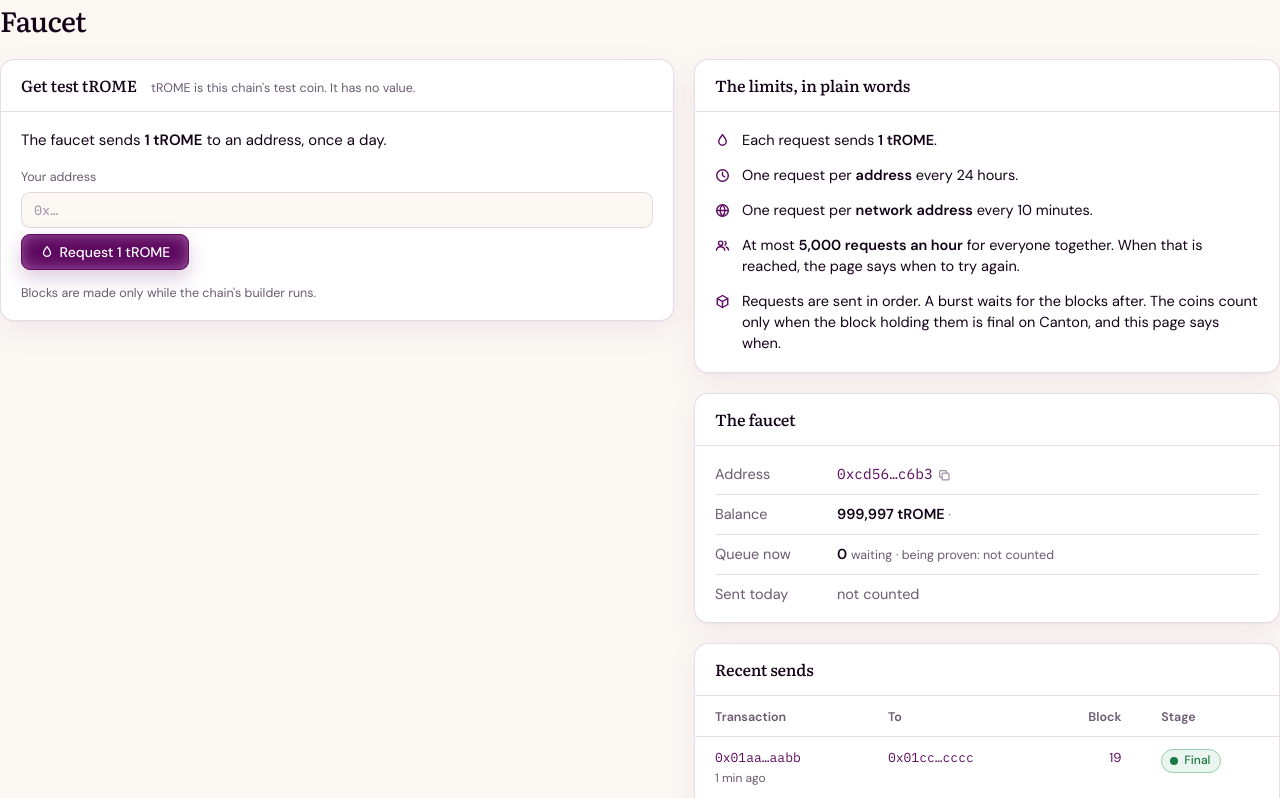
Test: recent sends › shows the request being followed, not final, above the final ones, and never as final
The image size is (1280, 798).
Type "0x5a04de5c5ebd085f5e3b3ec791ab5cdc8e2b56f0" into the field labelled "Your address" at [337, 210], box [21,192,653,228]
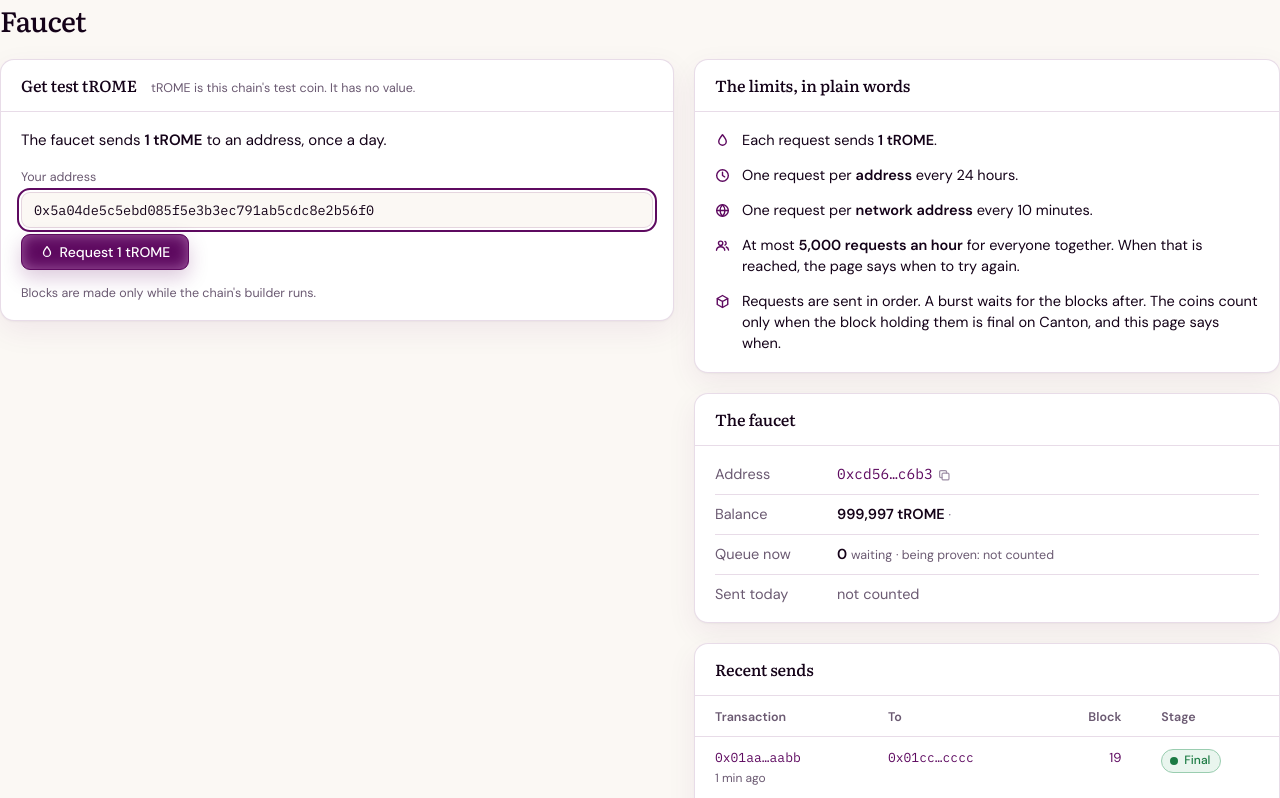
Click the button "Request 1 tROME" at [105, 252], box [21,234,189,270]
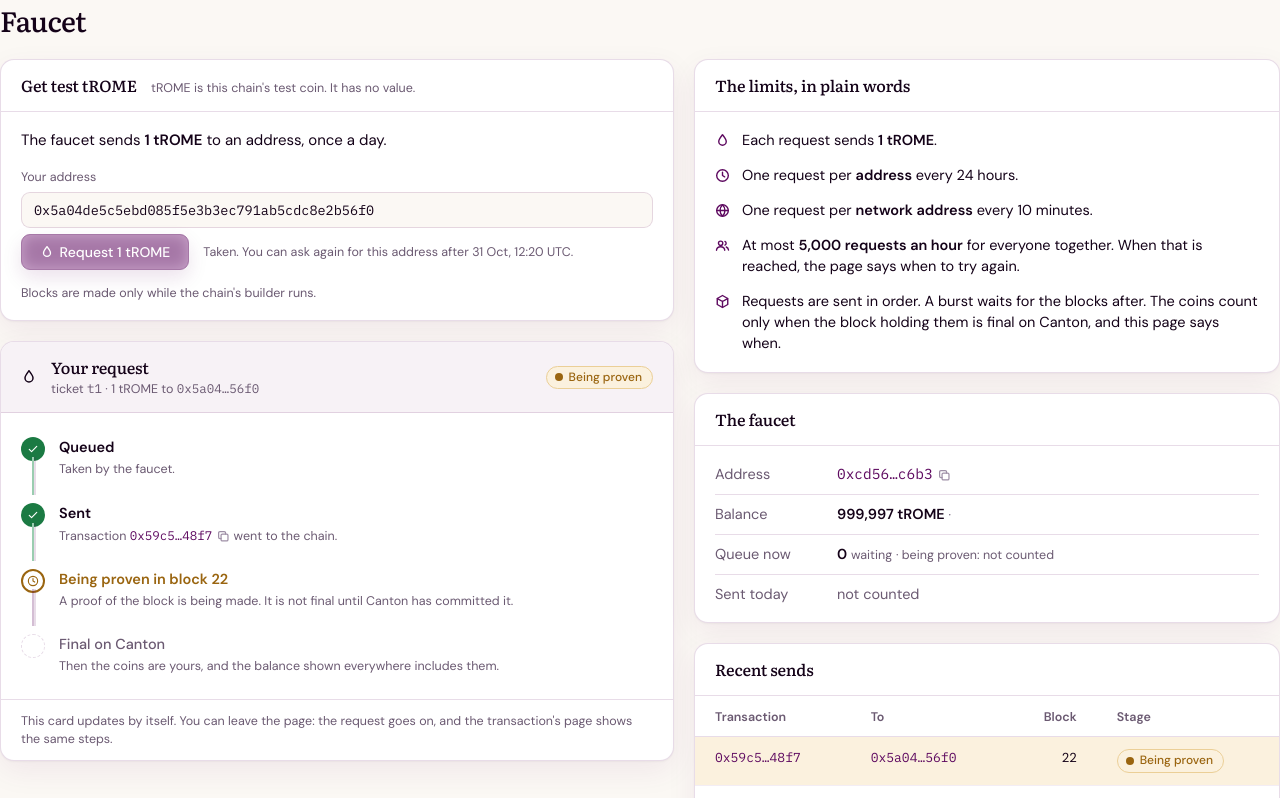
Expected: the row "0x59c5…48f7 0x5a04…56f0 22 Being proven" does not show "Final", [695,737,1279,785]
Now the row "0x59c5…48f7 0x5a04…56f0 22 Being proven" is shown, box [695,737,1279,785]
